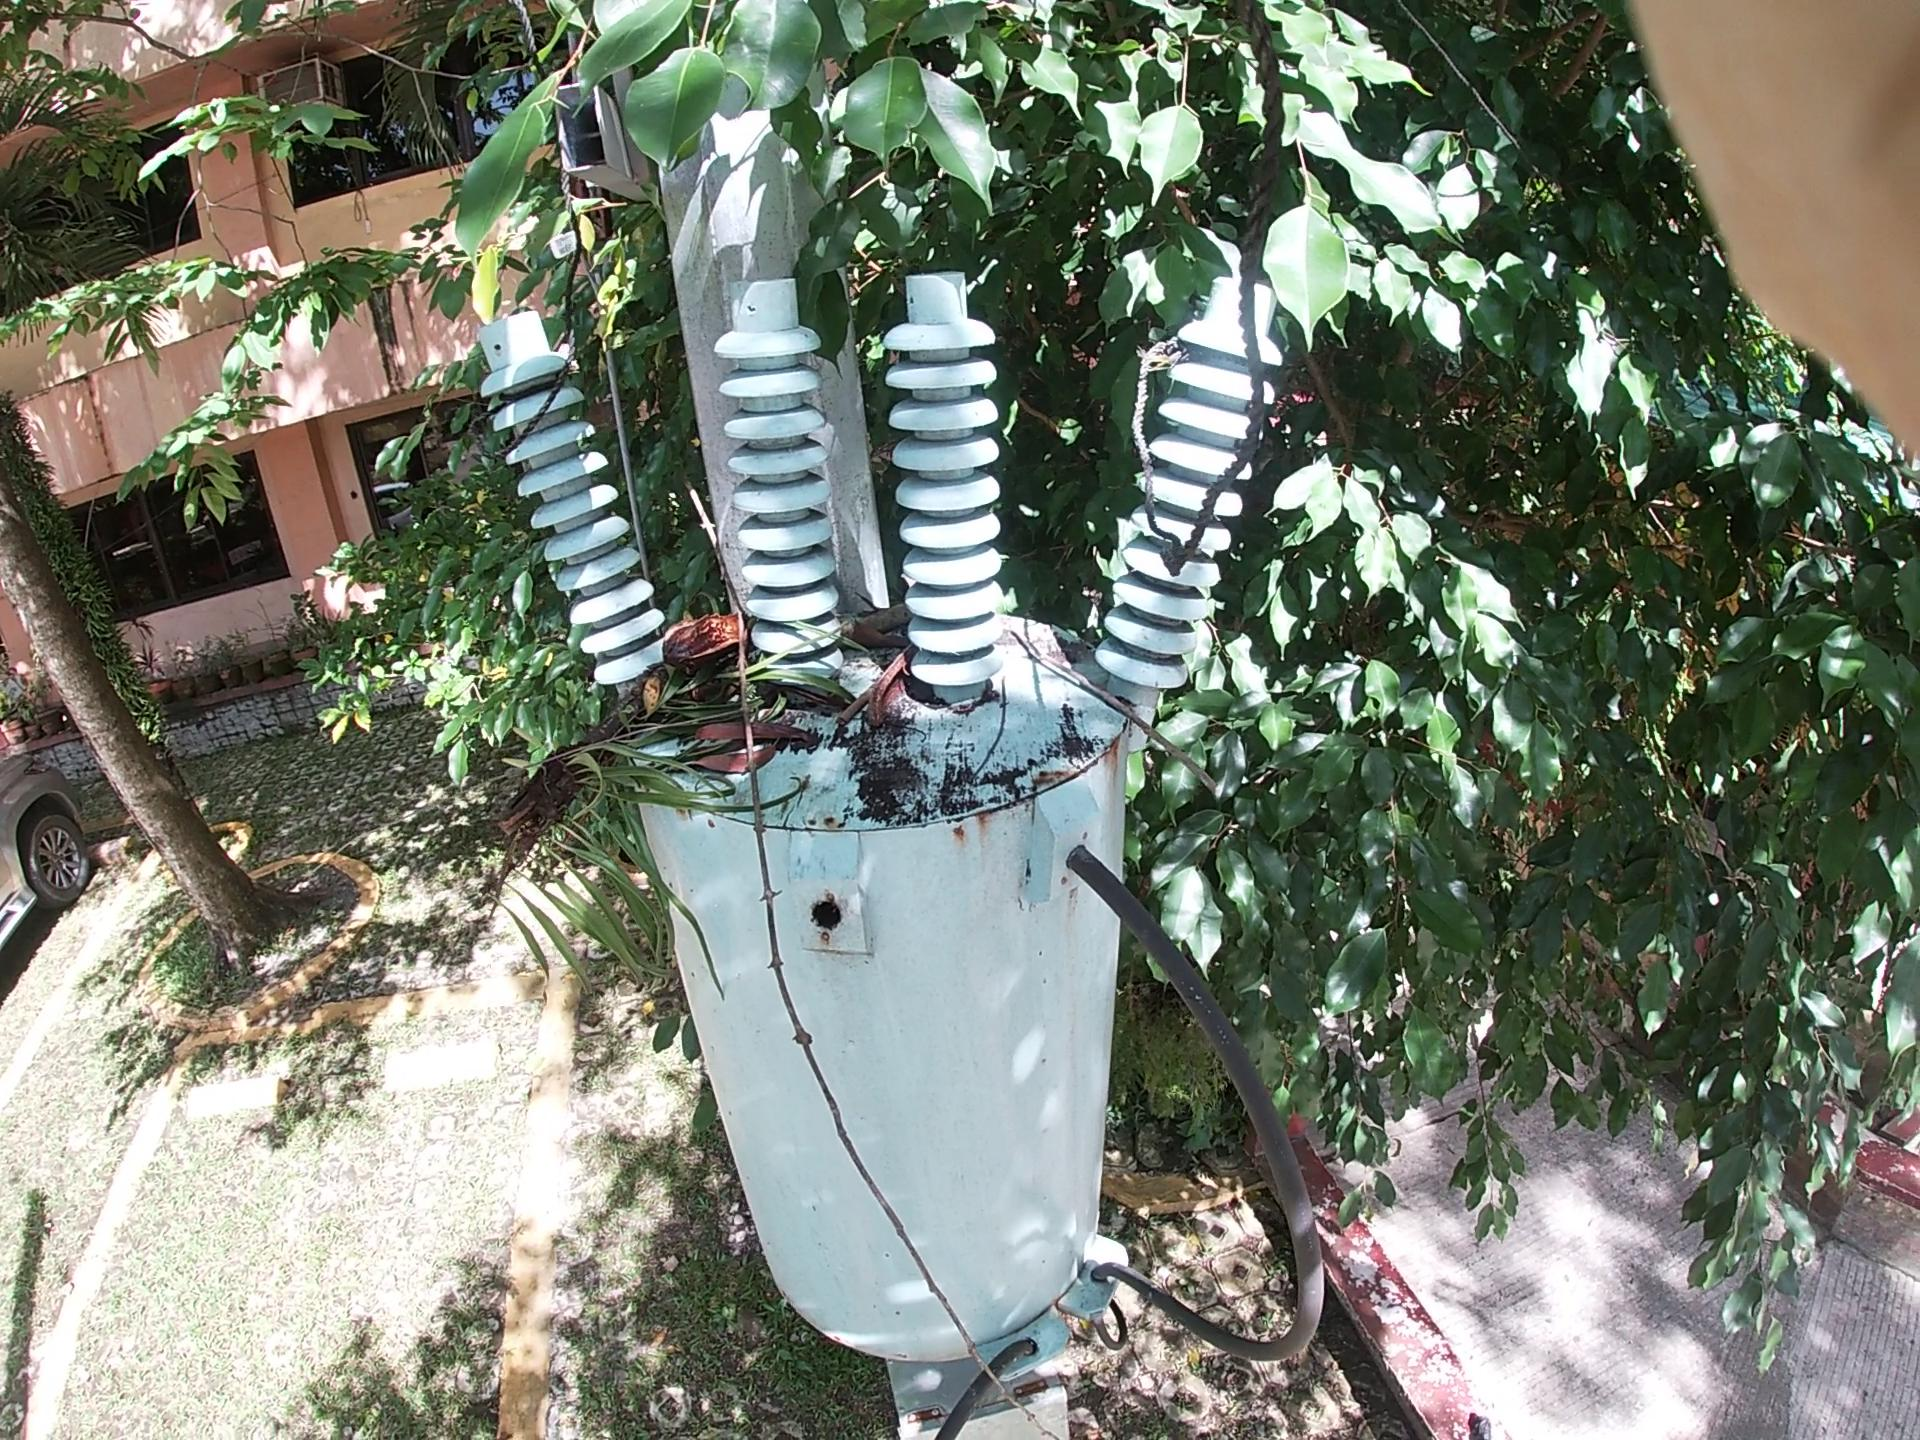branch with leaves: (491, 597, 770, 948)
leaf: (650, 690, 797, 800)
mahogany fruit: (602, 564, 751, 697), (857, 620, 939, 765)
tree branch: (685, 597, 977, 1355), (1010, 611, 1355, 833), (807, 526, 910, 740)
